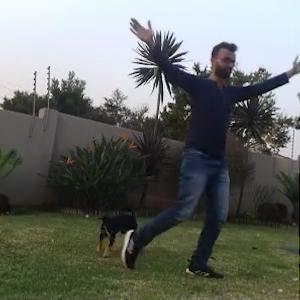takeoff: (96, 34, 271, 252)
